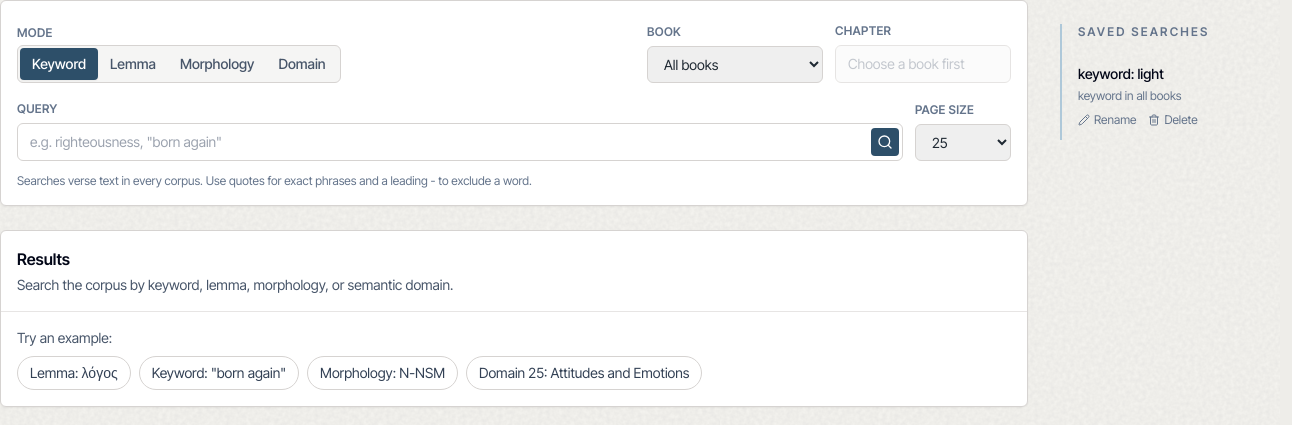
Scenario: SearchPanel rename input › exposes an accessible name
Click the button "Rename". click: (1107, 120)
box: [1078,112,1136,128]
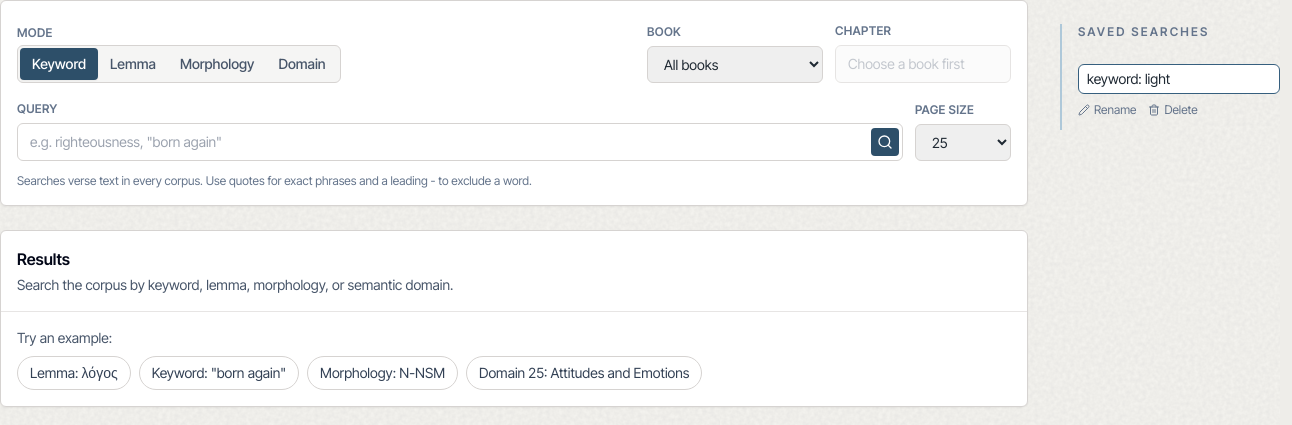
Expected: the field named "Saved search name" is shown, [1078,64,1280,94]
